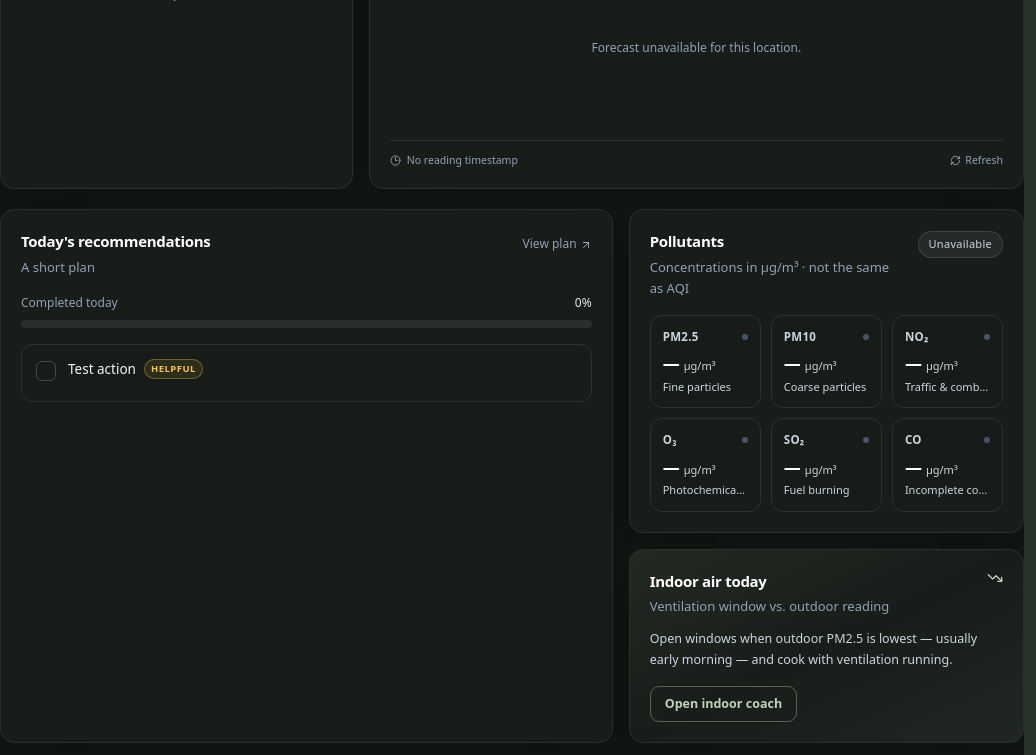
Dashboard daily plan › renders actions and toggles them without crashing
This screenshot has width=1036, height=755.
(page scrolled)
Click the button named "Mark Test action as done" at (46, 371), box [36,361,56,381]
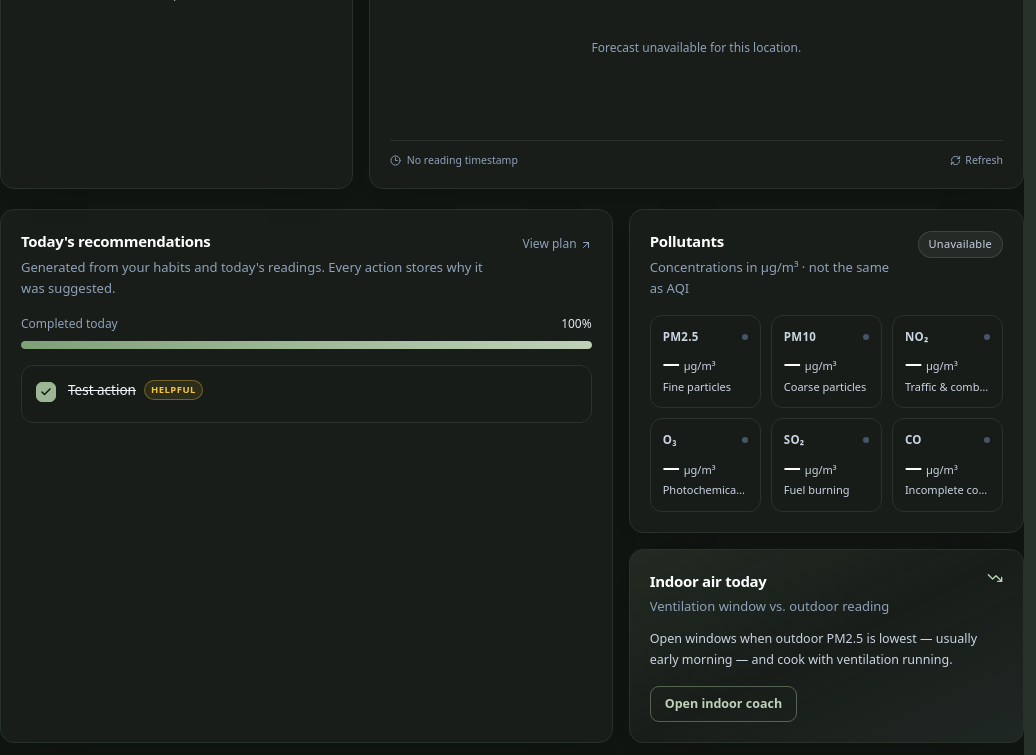
Now the button named "Mark Test action as not done" is shown, box [36,382,56,402]
